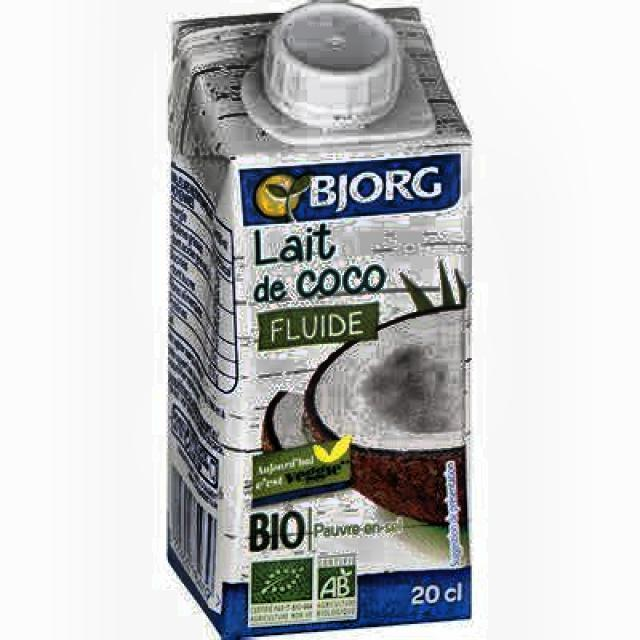cardboard: (163, 0, 473, 638)
